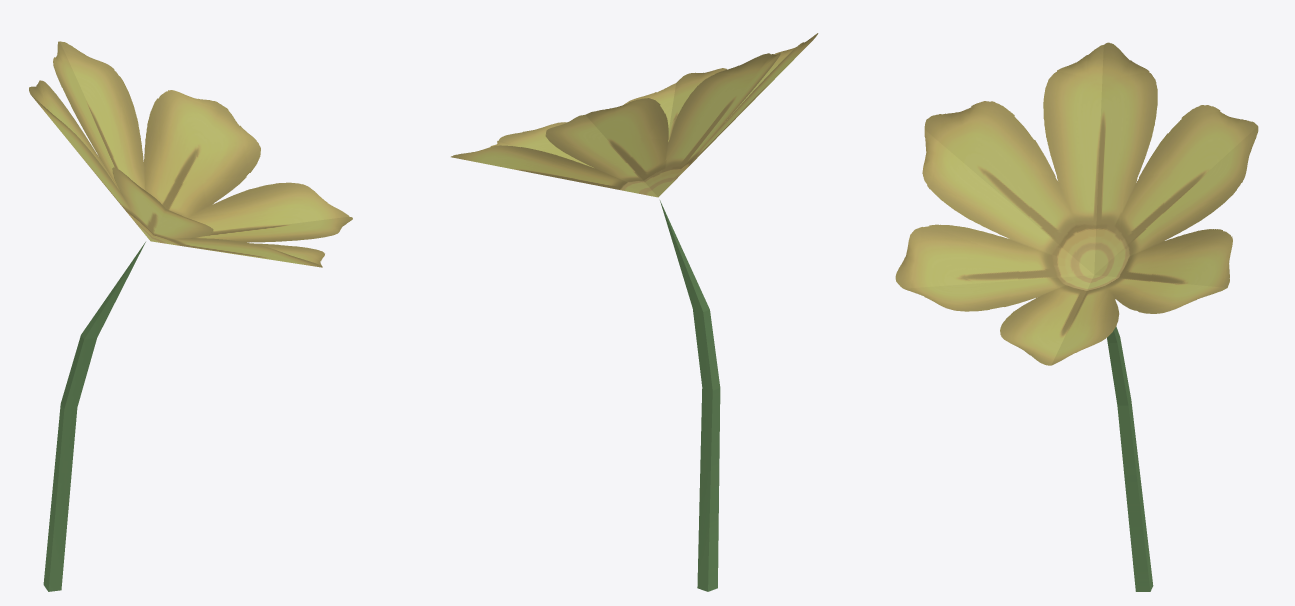
Rendered from Flower_2.glb.
The picture shows the model from 3 angles, left to right: view 1: azimuth 30°, elevation 25°; view 2: azimuth 150°, elevation 25°; view 3: azimuth 270°, elevation 25°; orthographic projection. The views are drawn at different scales.
Size of the model in its own units: 0.239 by 0.3613 by 0.2474.
1 material, 1 textured.
